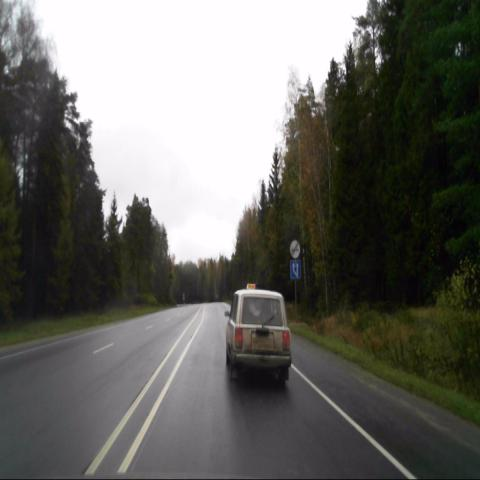3_21: (289, 238, 301, 259)
